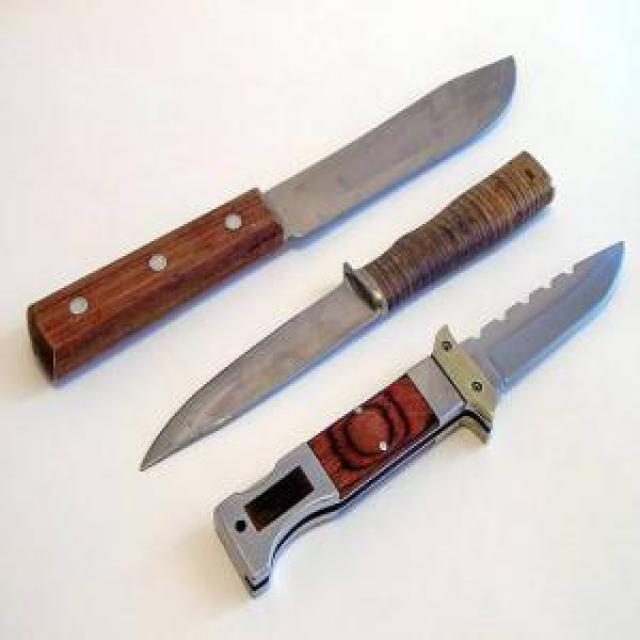knife: (26, 49, 517, 383), (215, 235, 630, 606), (136, 150, 558, 472)
